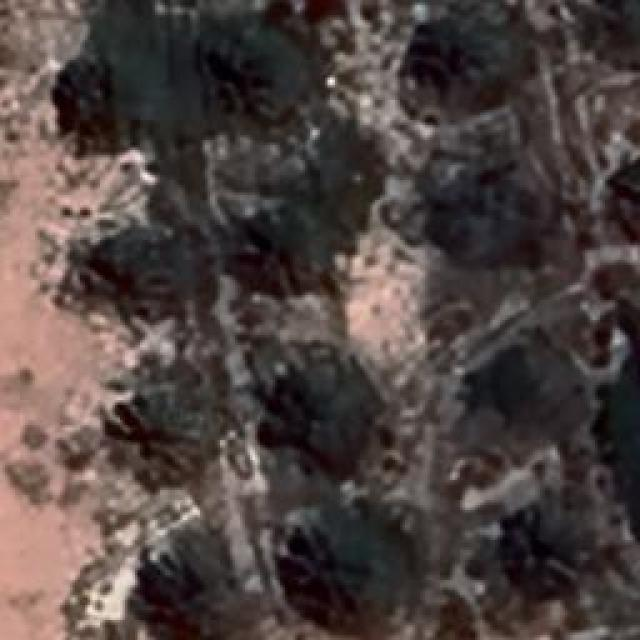PalmTree: (83, 89, 487, 208), (132, 538, 228, 636), (214, 20, 306, 120), (112, 378, 196, 486), (88, 228, 178, 324), (268, 360, 362, 448), (247, 195, 325, 298), (502, 504, 586, 592), (284, 515, 364, 605), (412, 15, 492, 93), (586, 0, 640, 69), (612, 382, 640, 506), (611, 153, 640, 238), (620, 386, 640, 502), (619, 154, 640, 234)
